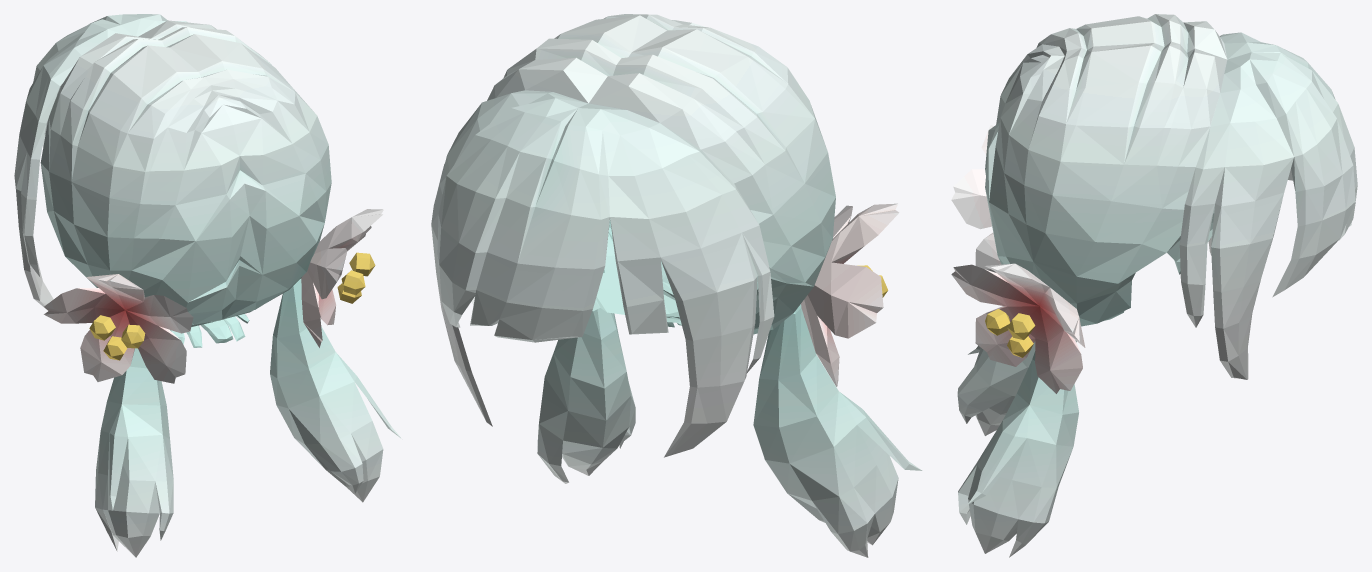
File: CharSkyKid_Hair_Blossom_01.glb
3 renders of one model, left to right at view 1: azimuth 30°, elevation 25°; view 2: azimuth 150°, elevation 25°; view 3: azimuth 270°, elevation 25°, orthographic. The views are drawn at different scales.
Parts seen in each view (by area): view 1: CharSkyKid_Hair_Blossom_01; view 2: CharSkyKid_Hair_Blossom_01; view 3: CharSkyKid_Hair_Blossom_01.
Boxes of the visible parts, x1=… form: CharSkyKid_Hair_Blossom_01: x1=14, y1=14, x2=401, y2=557; CharSkyKid_Hair_Blossom_01: x1=431, y1=14, x2=922, y2=557; CharSkyKid_Hair_Blossom_01: x1=951, y1=14, x2=1357, y2=557.
Size of the model in its own units: 3.57 by 4.52 by 3.6.
1 material, 1 textured.
